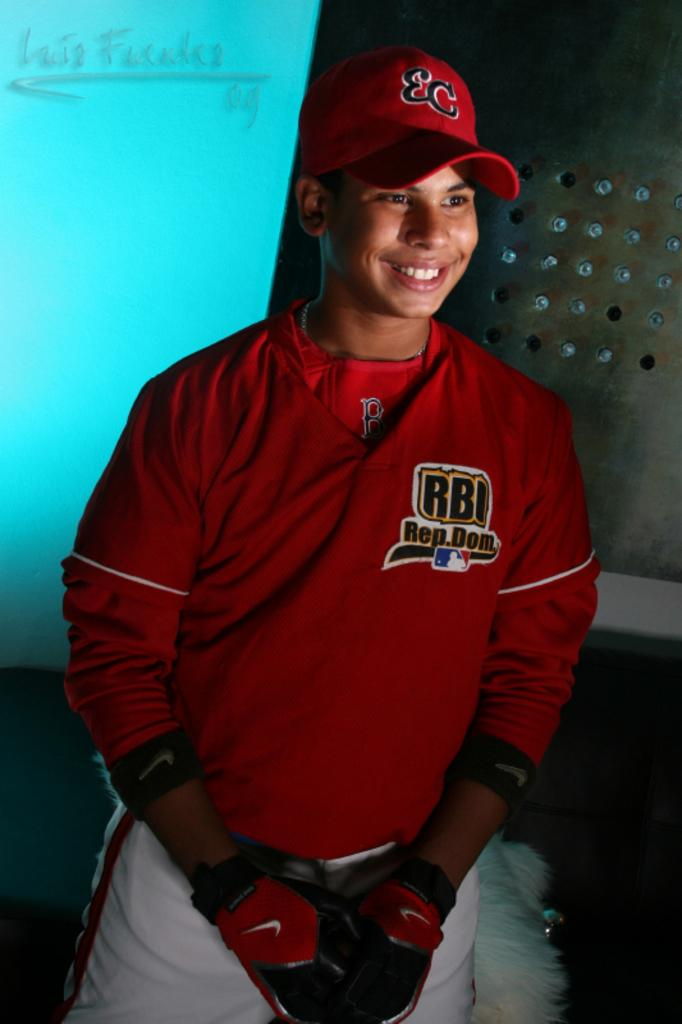Hat: (294, 40, 518, 196)
